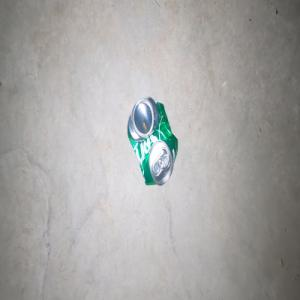SodaCan: (127, 96, 177, 185)
